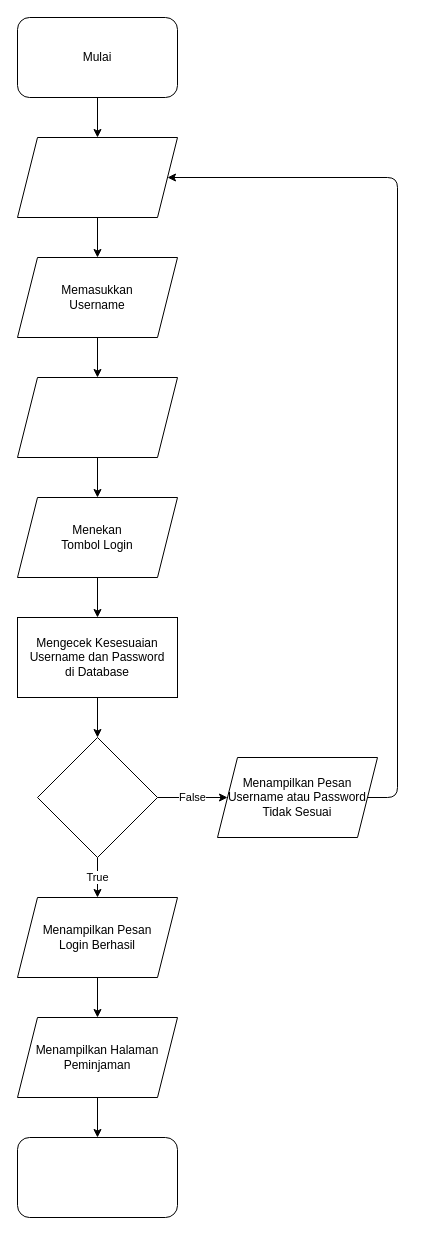
The diagram is 423 pixels wide and 1235 high, and some of its shapes have lost their labels. The shapes that lost their labels are listed below. From the top down, each one's box as (x1, y1, x2, y2) in pixels, then its label:
(16, 136, 178, 218): Menampilkan Halaman Login
(16, 376, 178, 458): Memasukkan Password
(36, 736, 158, 858): Sesuai di Database?
(16, 1136, 178, 1218): Selesai
